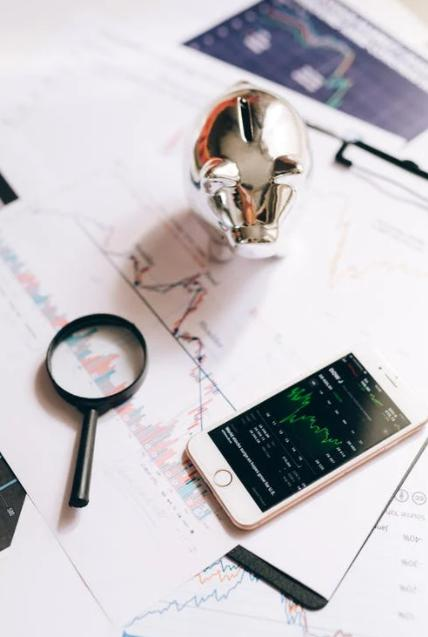mobile: (184, 344, 426, 530)
